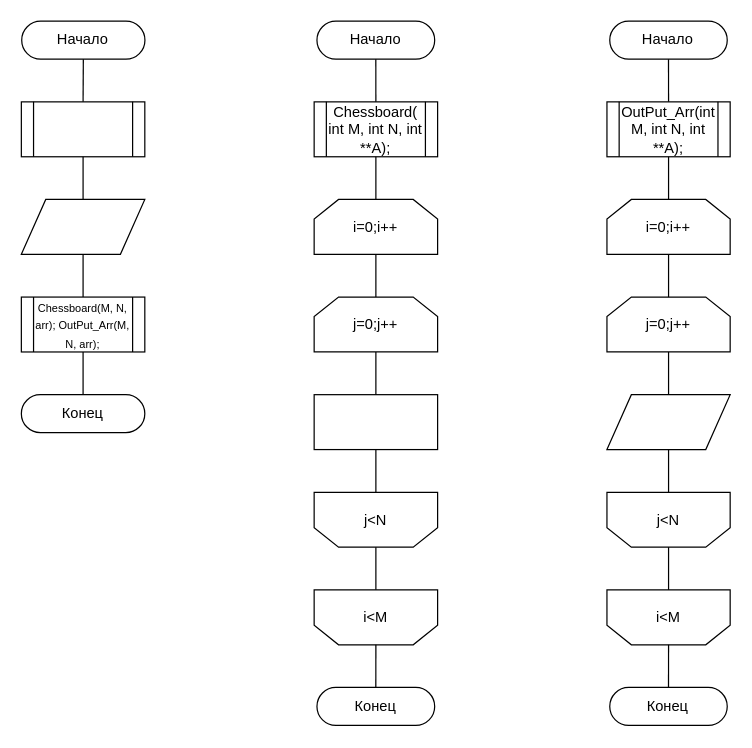
Image size: 752x748. Some labels were removed from this diagram. The centre of each missing label's shape, as x and y in pixels:
A[i][j] = (i + j) % 2: [375,421]
main(int M, int N, int **arr): [82,129]
Ввод и вывод: [82,226]
Вывод: [668,421]
